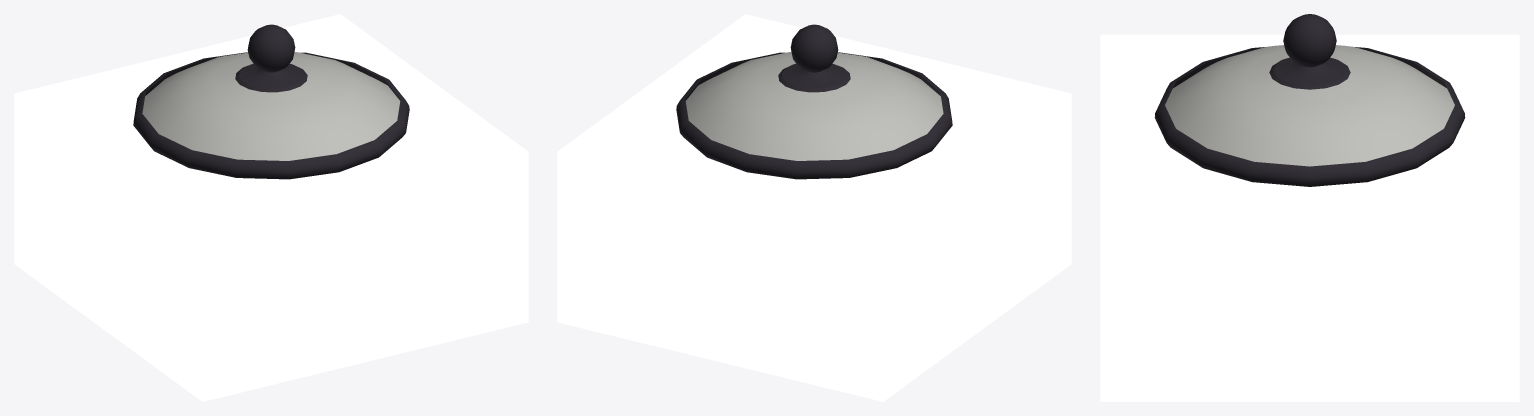
File: SE_186_ground_light.glb
3 views of the same model, side by side, from view 1: azimuth 30°, elevation 25°; view 2: azimuth 150°, elevation 25°; view 3: azimuth 270°, elevation 25° (orthographic). The views are drawn at different scales.
Parts seen in each view (by area): view 1: base, light; view 2: base, light; view 3: base, light.
Boxes of the visible parts, left/top/right/bottom form: base: left=14, top=14, right=528, bottom=401; light: left=133, top=24, right=409, bottom=179; base: left=557, top=14, right=1071, bottom=401; light: left=676, top=24, right=952, bottom=179; base: left=1100, top=34, right=1519, bottom=401; light: left=1154, top=14, right=1465, bottom=186.
Bounding box in the file's own units: 0.75 × 0.5856 × 0.75.
Materials: 3 (1 with a texture image).
